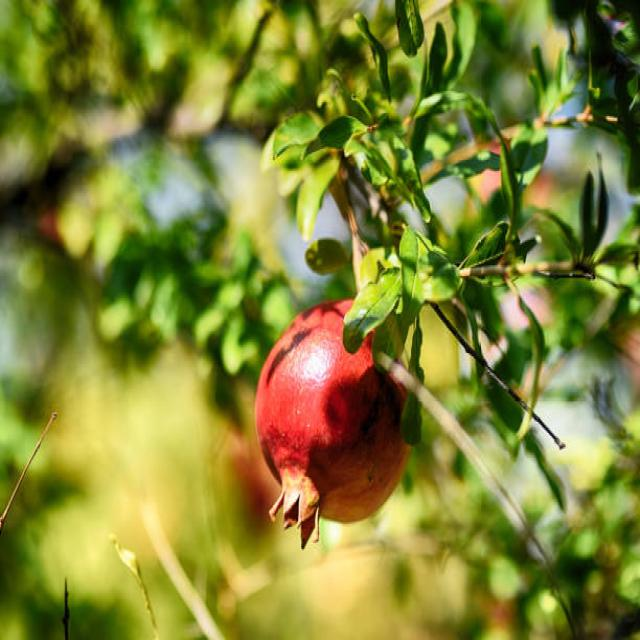Ripe: (257, 295, 408, 542)
